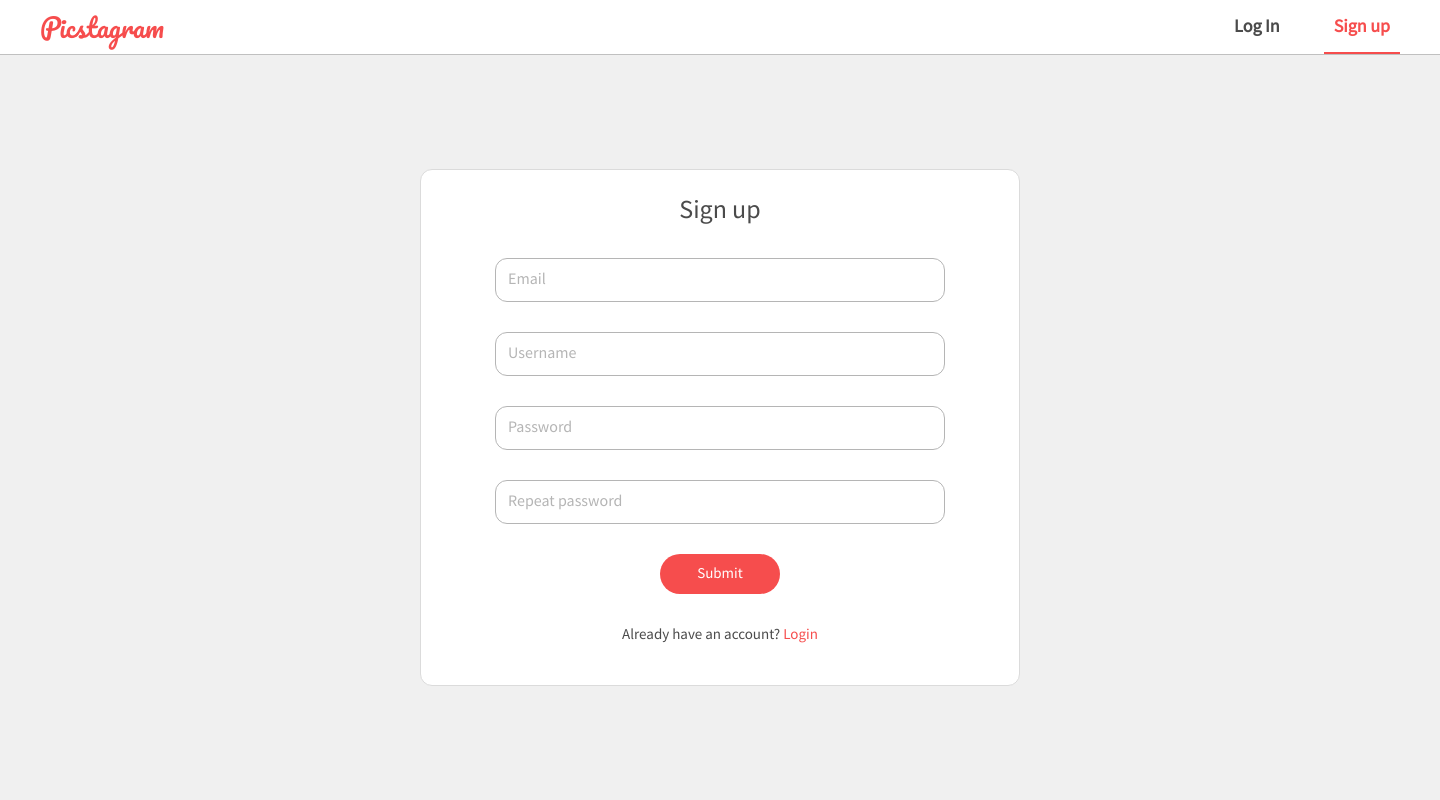
sign up › shows a message on every empty field and never reaches the server
The width and height of the screenshot is (1440, 800).
Click the button "Submit".
click(720, 574)  # box [660,554,780,594]
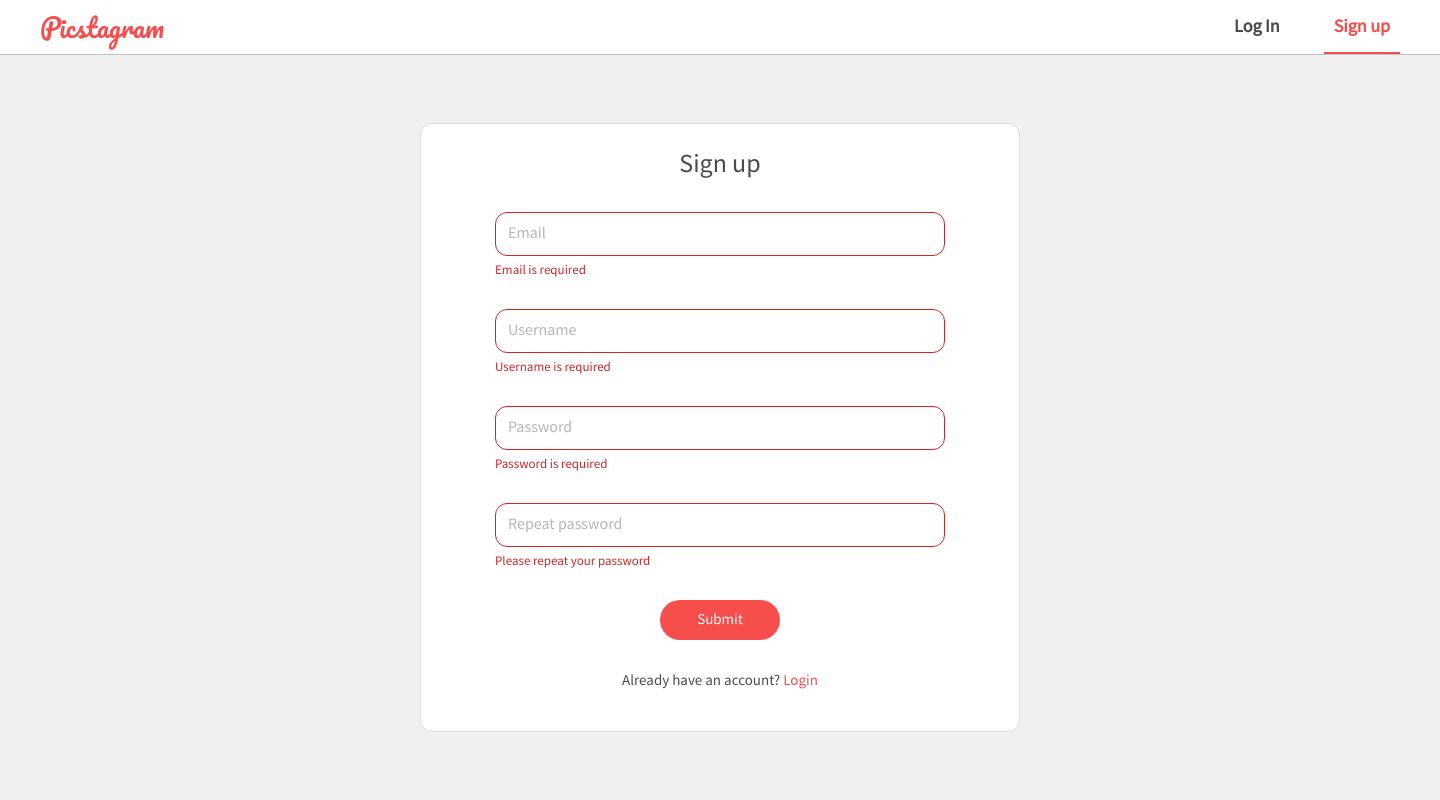
expect the text "Email is required" is shown: met, box [495,262,586,278]
expect the text "Username is required" is shown: met, box [495,358,611,376]
expect the text "Password is required" is shown: met, box [495,456,607,472]
